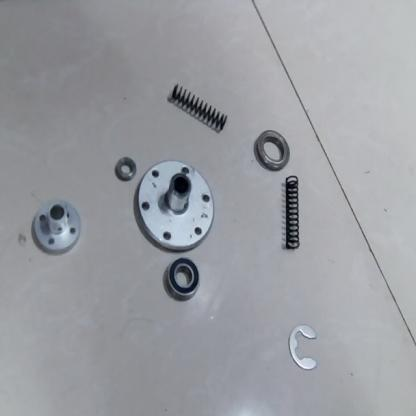FOD: (134, 158, 216, 254), (167, 77, 229, 137), (31, 198, 83, 259), (253, 128, 292, 171), (166, 255, 201, 302), (288, 322, 320, 372), (282, 174, 302, 252), (114, 154, 136, 181)
